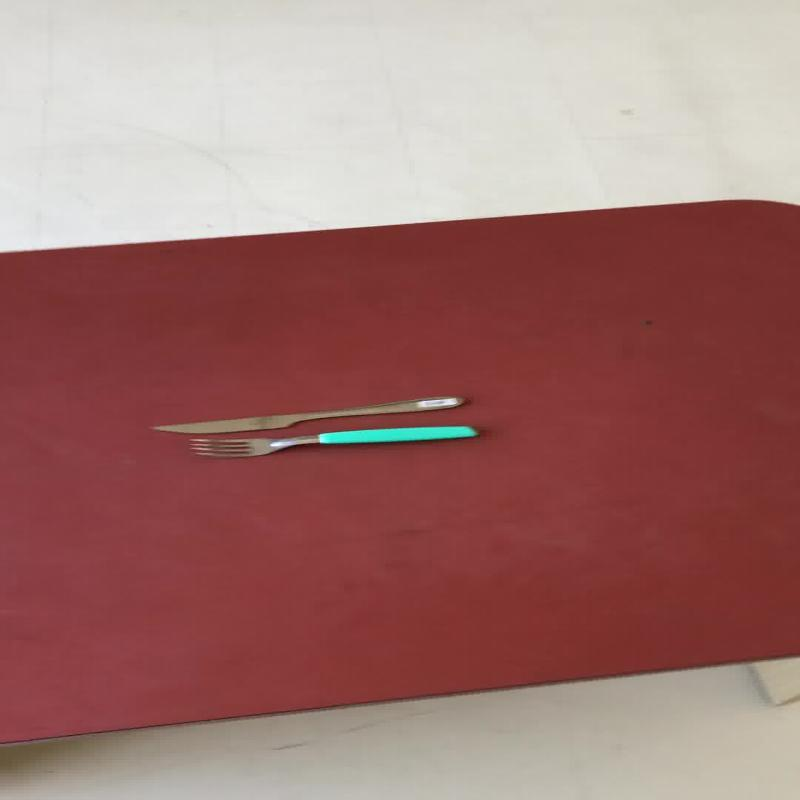fork: (186, 424, 480, 458)
knife: (148, 394, 465, 434)
